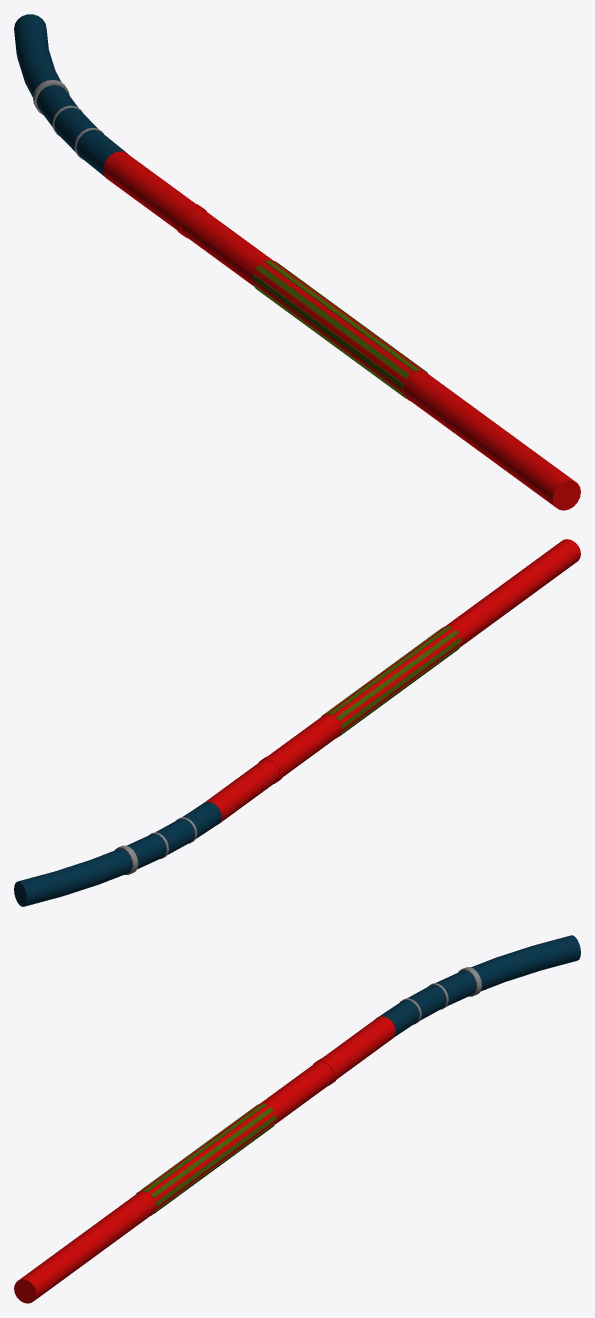
Rendered from Gros tuyau.FBX.
The picture shows the model from 3 angles, top to bottom: view 1: azimuth 30°, elevation 25°; view 2: azimuth 150°, elevation 25°; view 3: azimuth 330°, elevation 25°; orthographic projection. The views are drawn at different scales.
Visible parts, largest first — view 1: Cylinder001, Cylinder002; view 2: Cylinder001, Cylinder002; view 3: Cylinder001, Cylinder002.
Boxes of the visible parts, x1=… form: Cylinder001: x1=103, y1=151, x2=580, y2=510; Cylinder002: x1=14, y1=14, x2=127, y2=177; Cylinder001: x1=205, y1=539, x2=580, y2=824; Cylinder002: x1=14, y1=802, x2=221, y2=906; Cylinder001: x1=14, y1=1016, x2=395, y2=1303; Cylinder002: x1=376, y1=935, x2=580, y2=1037.
Bounding box in the file's own units: 1467 × 449 × 15276.
